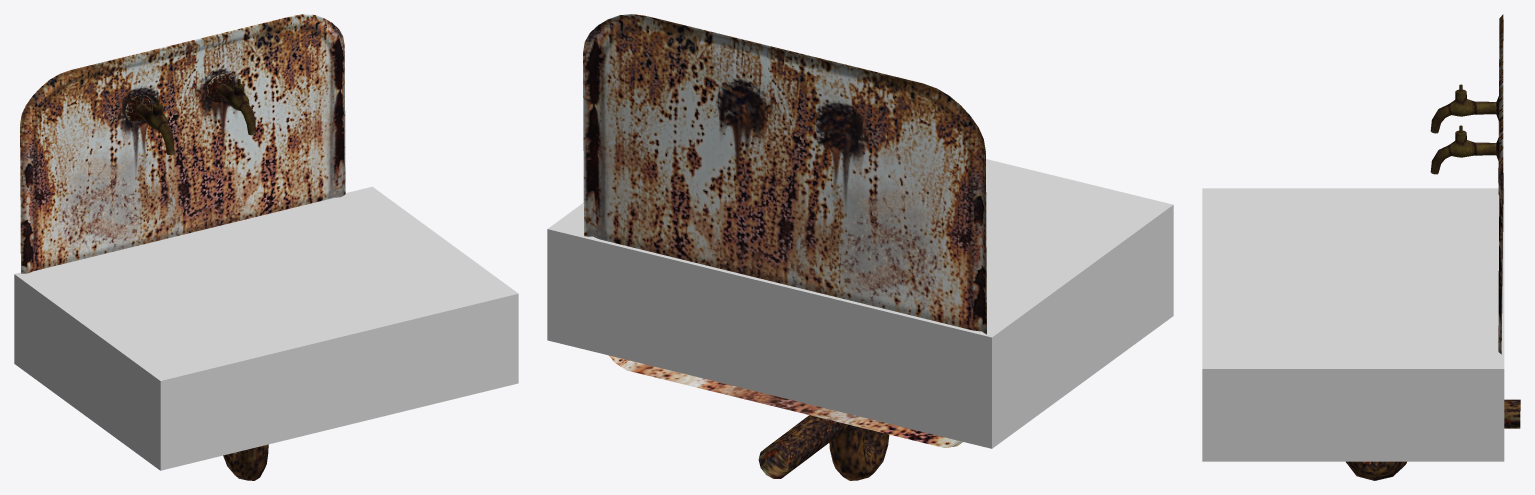
The model's file is Moyka.FBX.
The picture shows the model from 3 angles, left to right: view 1: azimuth 30°, elevation 25°; view 2: azimuth 150°, elevation 25°; view 3: azimuth 270°, elevation 25°; orthographic projection. The views are drawn at different scales.
Parts seen in each view (by area): view 1: X_moy, moyka; view 2: moyka, X_moy; view 3: X_moy, moyka.
Boxes of the visible parts, <box> form: X_moy: <box>14,186,518,470</box>; moyka: <box>20,14,345,480</box>; moyka: <box>583,14,986,480</box>; X_moy: <box>547,159,1173,448</box>; X_moy: <box>1202,188,1504,461</box>; moyka: <box>1346,14,1520,480</box>.
Size of the model in its own units: 1.03 by 1.07 by 0.7636.
1 material, 1 textured.
